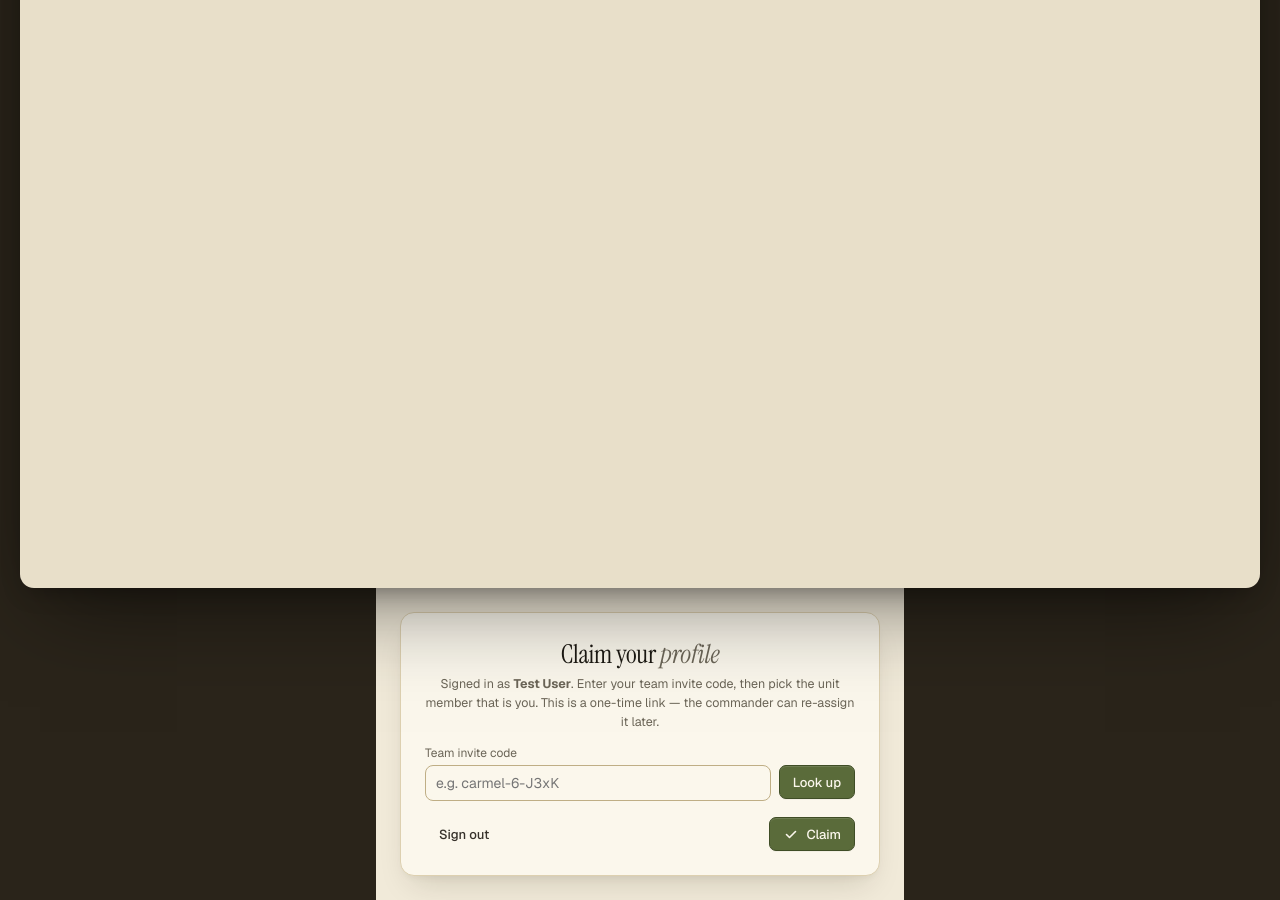
Test: ClaimProfileScreen › shows an empty-state message naming the team when invite is valid but no unclaimed members
(page scrolled)
Type "carmel-6-J3xK" into the field with placeholder "e.g. carmel-6-J3xK" at (598, 783), box [425,765,771,801]
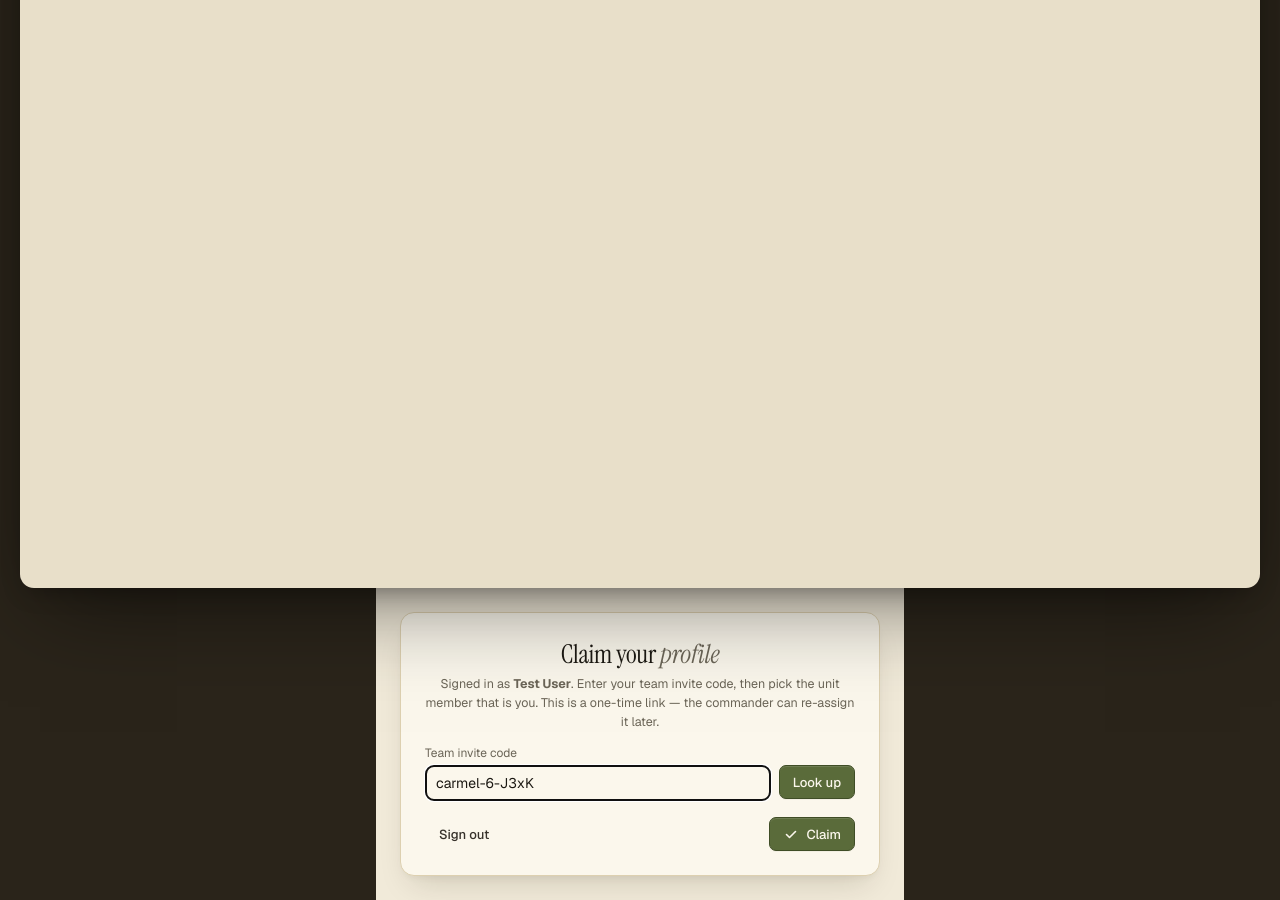
Click the button "Look up" at (817, 782), box [779,765,855,799]
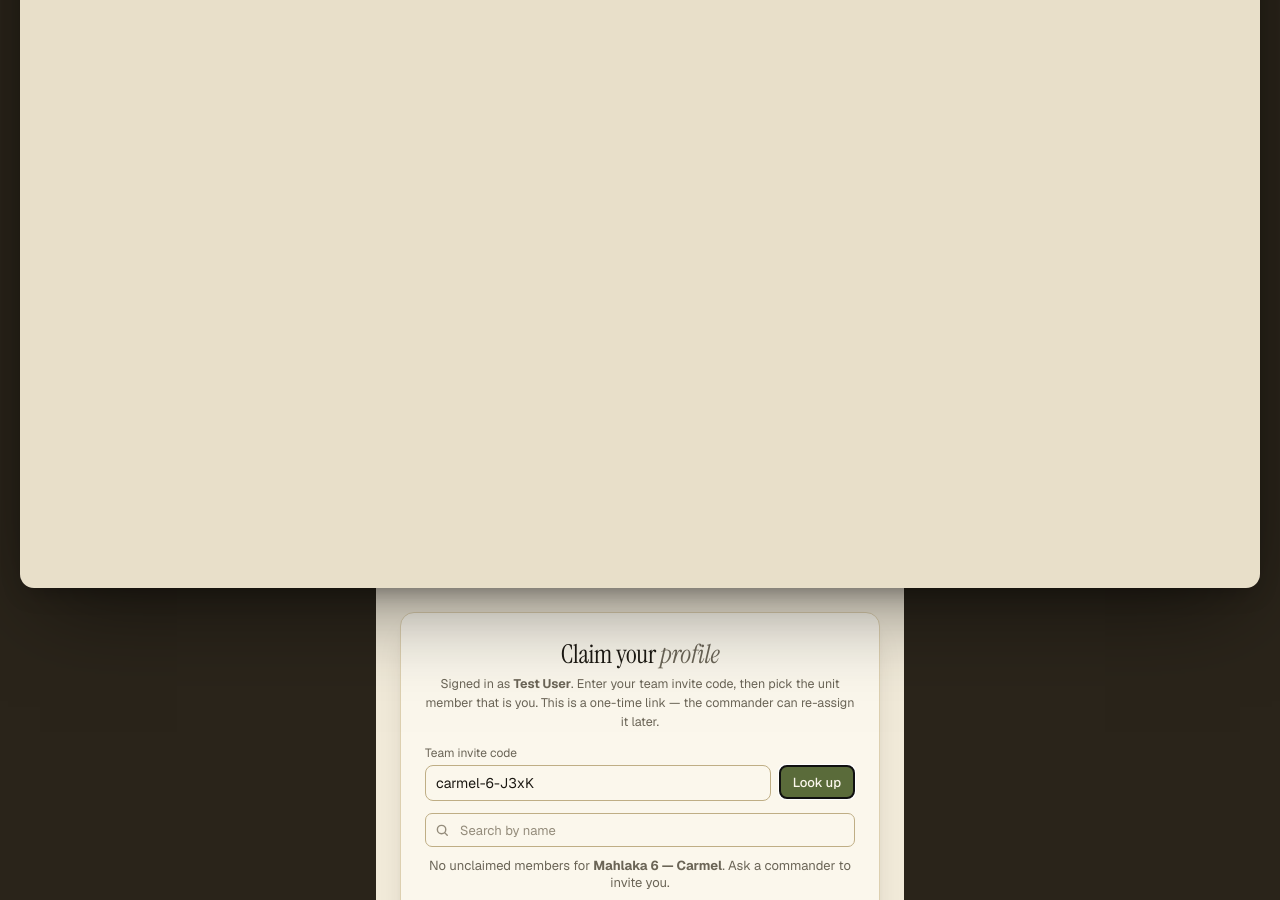
Expected: the text "No unclaimed members for" is shown, [429,857,593,874]
Expected: the text "Mahlaka 6 — Carmel" is shown, [593,857,722,874]
